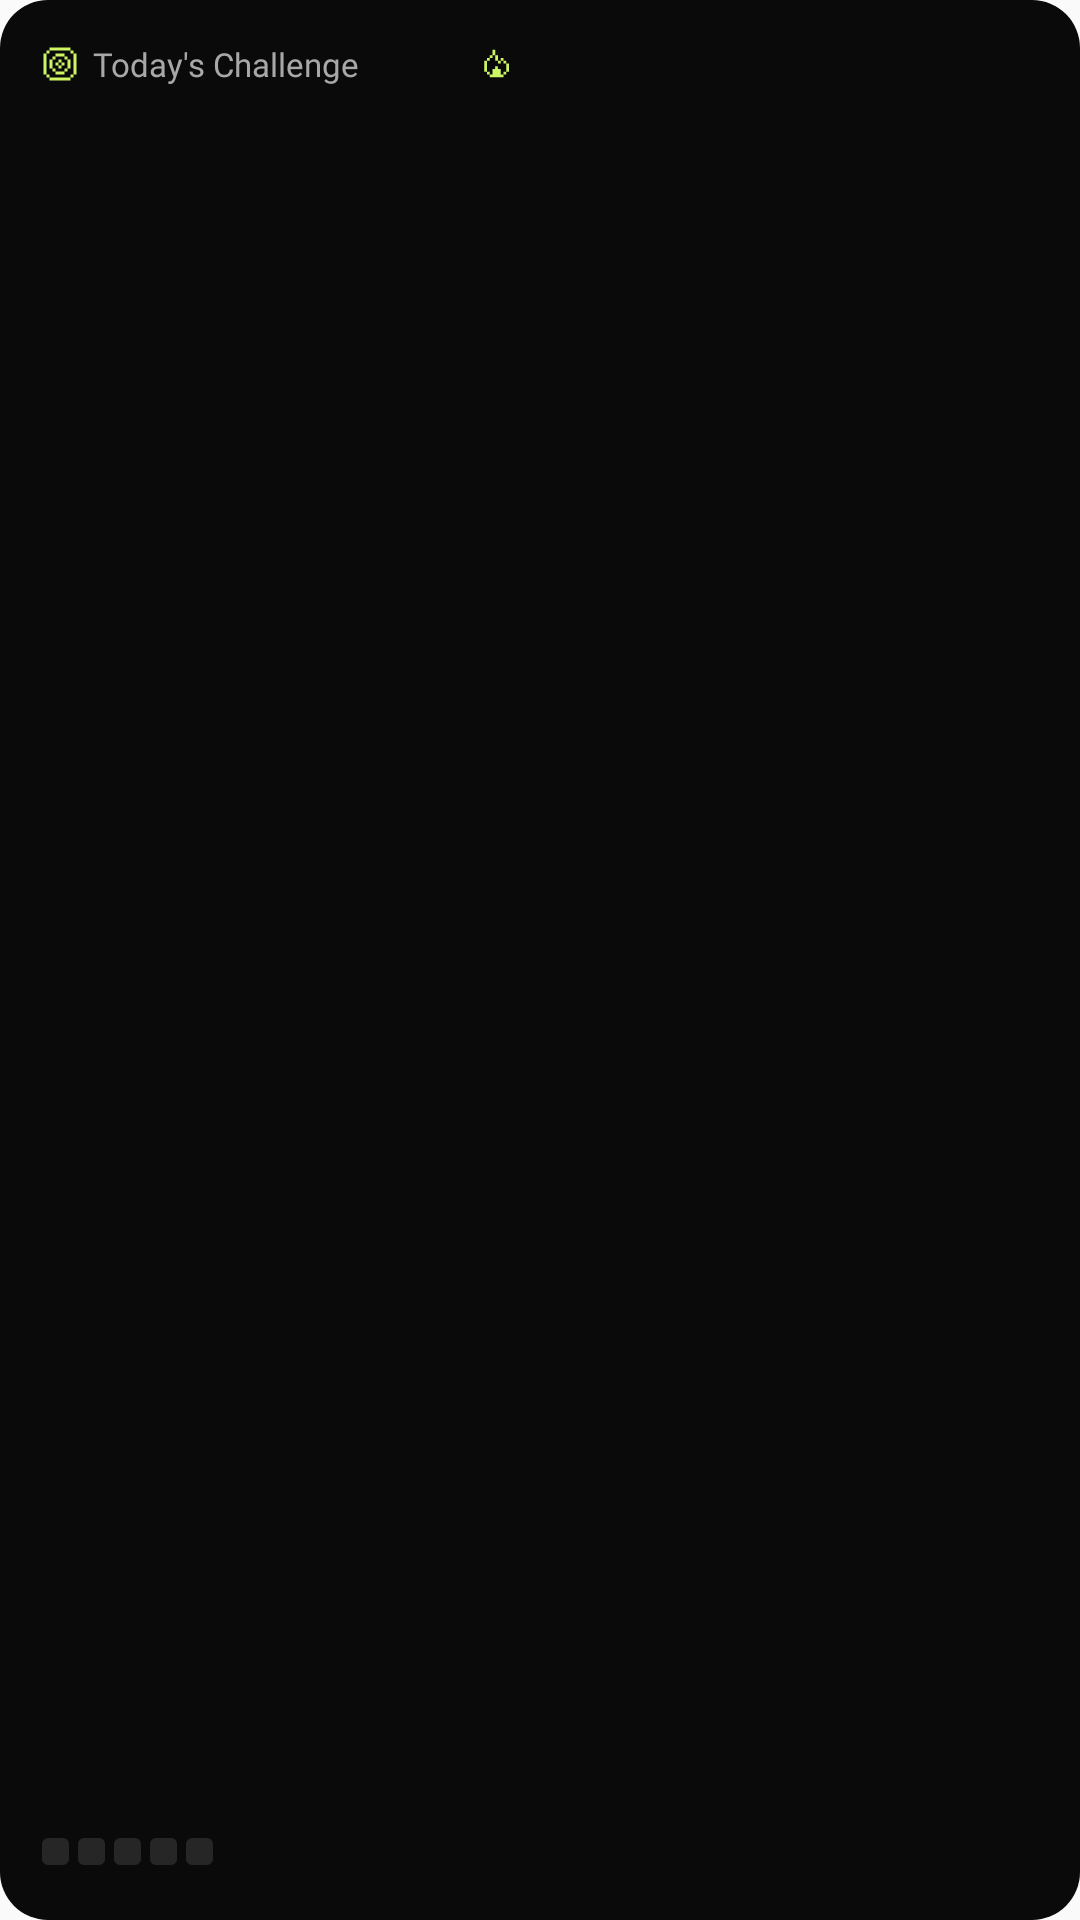

Icons on this 1080 x 1920 Android screen, each with its box as (x1, y1, x2, y2):
widget flame: (484, 49, 509, 78)
widget target: (43, 47, 77, 81)
